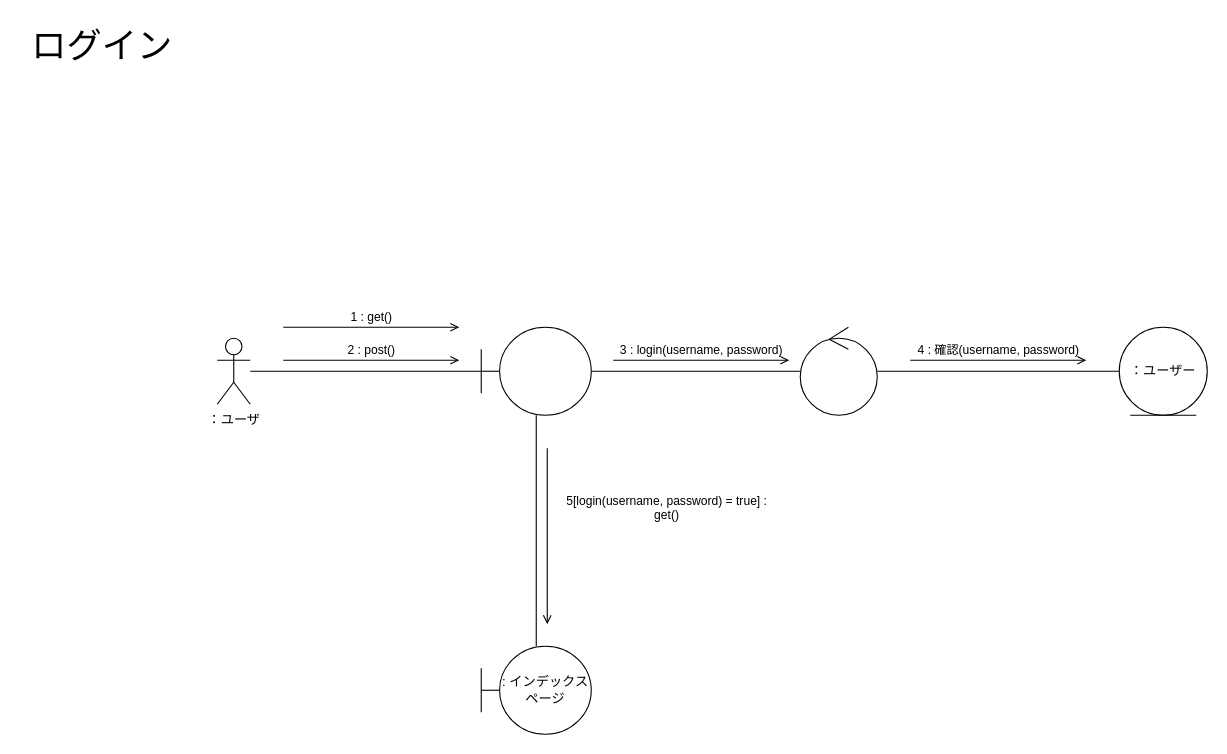
This 1227x754 diagram has some shape labels left out. The shapes that lost their labels are listed below. From the top down, each one's box as (x1, y1, x2, y2) in pixels, then its label:
(480, 326, 591, 415): : ログイン ページ
(799, 326, 877, 415): ：ユーザー管理
